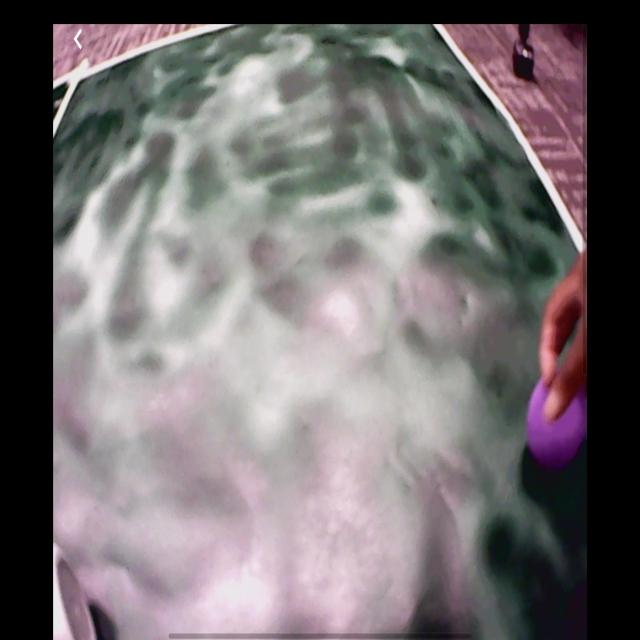ball: (529, 375, 589, 474)
